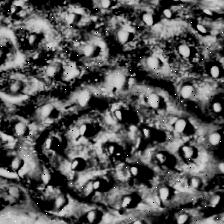Anthracnose Fruit Rot: (31, 86, 219, 220)
